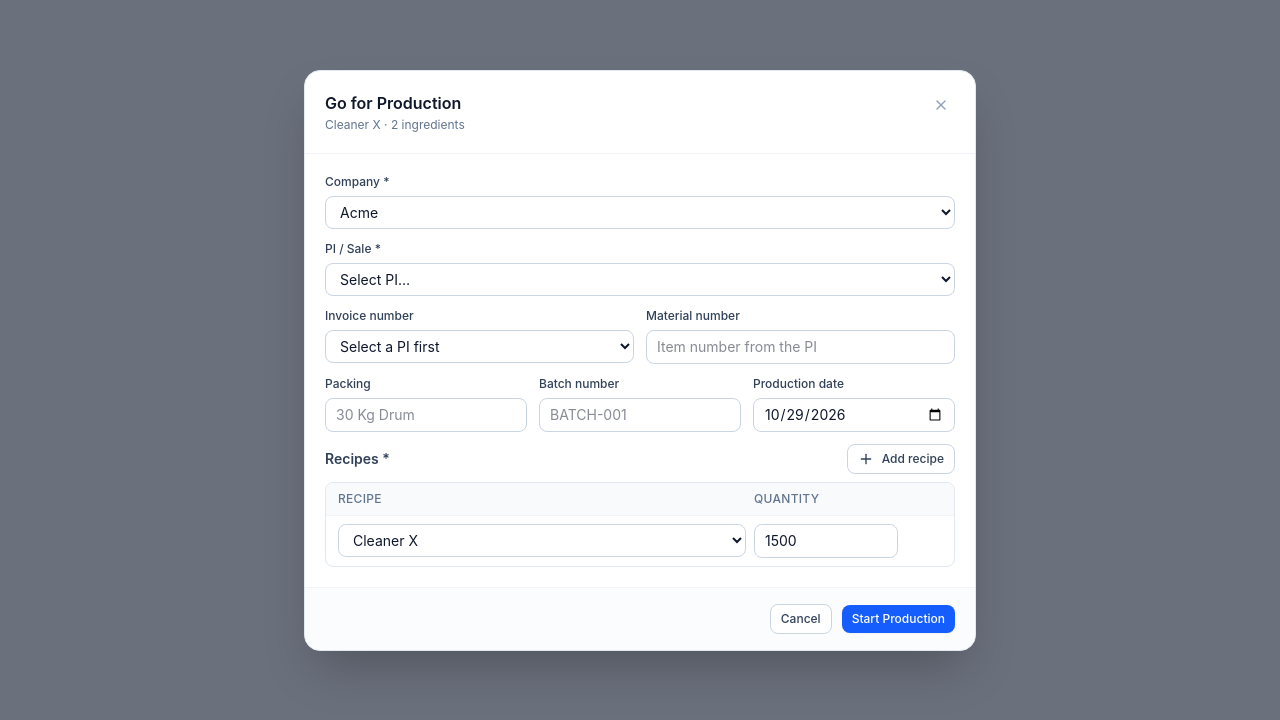
ProductionRunModal › never asks for an invoice amount and explains the derived total
Select "Acme" in the dropdown named "Company" at (640, 212), box [325, 196, 955, 228]
Select "PI-9 — Acme LLC" in the dropdown named "PI / Sale" at (640, 279), box [325, 262, 955, 296]
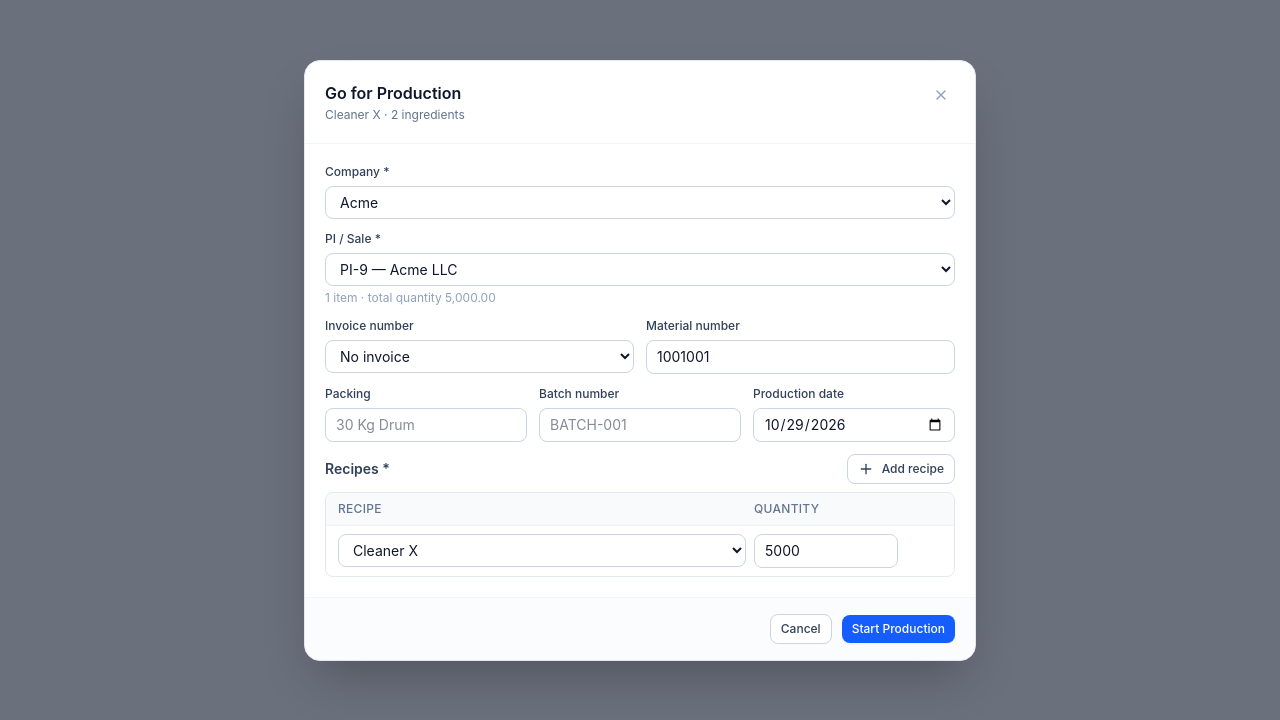
expect the number field named "Quantity" holds "5000": met, box [754, 534, 898, 568]
Select "New invoice number…" in the dropdown named "Invoice number" at (480, 356), box [325, 340, 634, 372]
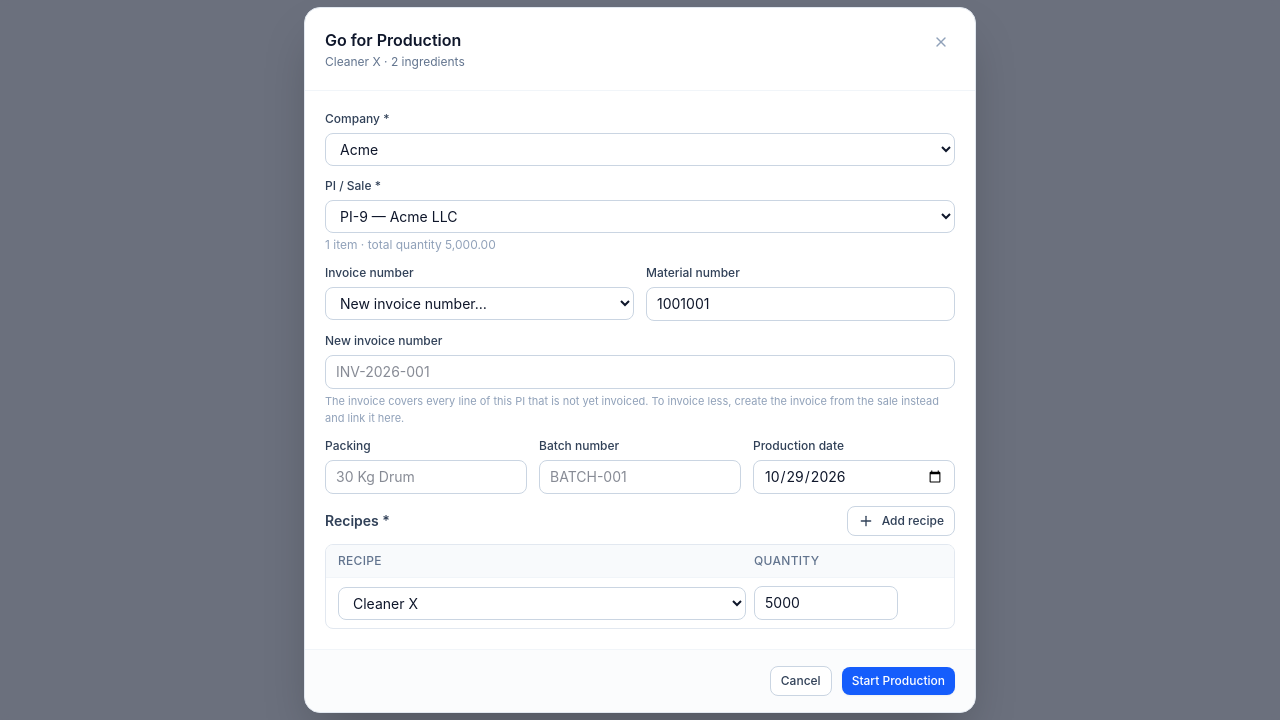
expect the field named "New invoice number" is shown: met, box [325, 355, 955, 389]
expect the text "every line of this PI that is not yet invoiced" is shown: met, box [325, 394, 939, 424]
